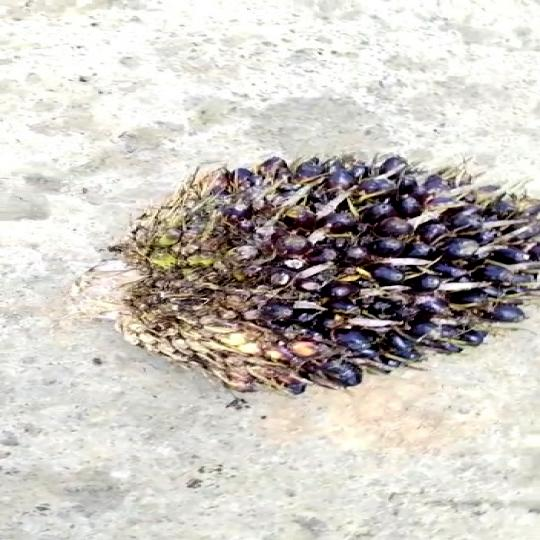mentah: (124, 137, 540, 414)
